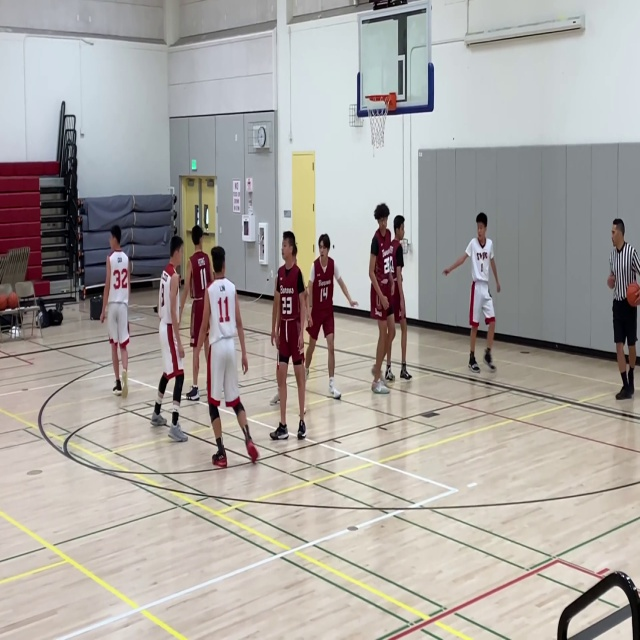Basketball: (626, 283, 640, 306), (8, 292, 18, 309), (0, 294, 7, 311)
